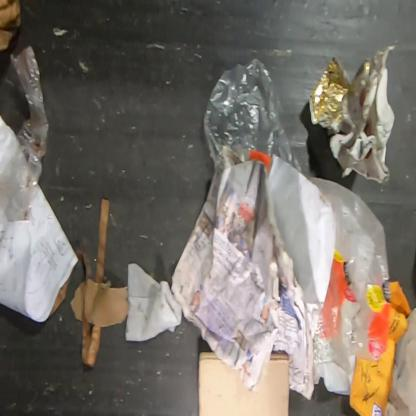cardboard: (198, 351, 289, 416), (0, 0, 23, 51)
soft_plastic: (202, 57, 392, 362), (0, 42, 50, 224)
